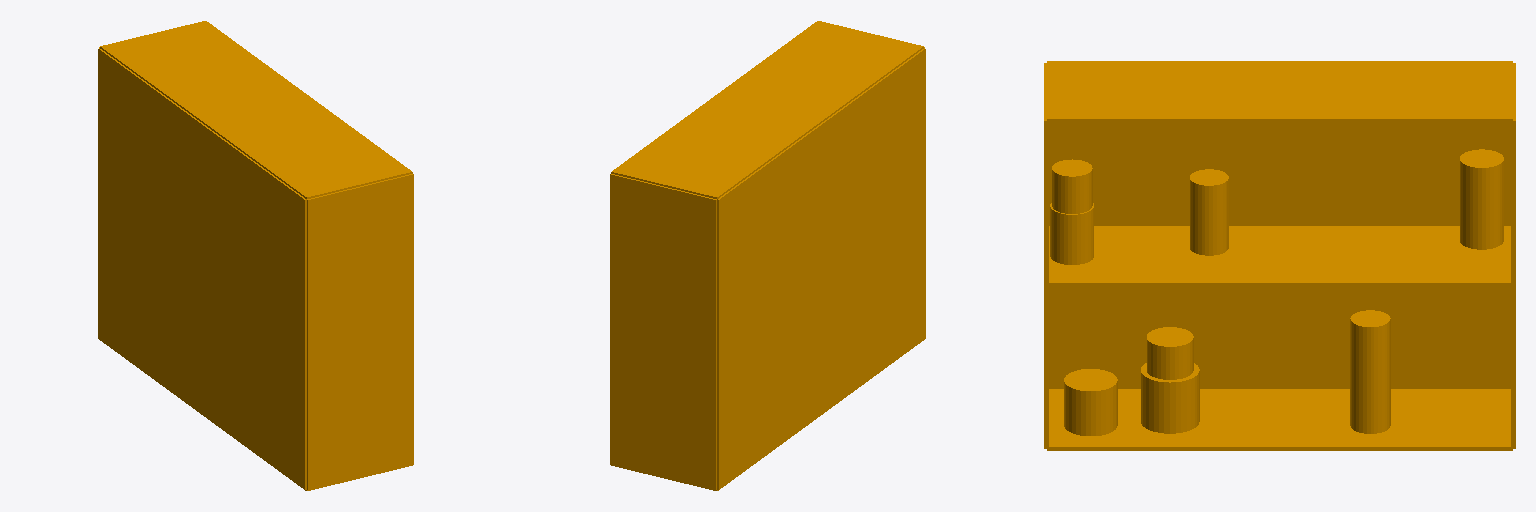
robot.urdf — syn_can_cabinet_507:
<?xml version="1.0" ?>
<robot name="syn_can_cabinet_507">
    <link concave="yes" name="base_link">
        <inertial>
            <origin rpy="0 0 0" xyz="0 0 0"/>
            <mass value="0.0"/>
            <inertia ixx="1e-08" ixy="0" ixz="0" iyy="1e-08" iyz="0" izz="1e-08"/>
        </inertial>
        <visual>
            <origin xyz="0 0 0" rpy="0 0 0" />
            <geometry>
                <mesh filename="syn_can_cabinet_507.obj" scale="1.000000 1.000000 1.000000"/>
            </geometry>         
        </visual>

        <collision concave="yes">
            <origin xyz="0 0 0" rpy="0 0 0"/>
            <geometry>
                <mesh filename="syn_can_cabinet_507.obj" scale="1.000000 1.000000 1.000000"/>
            </geometry>
        </collision>
    </link>
</robot>
    

--- Facts derived from the render (not from the file) ---
The picture shows the robot from 3 angles, left to right: view 1: azimuth 30°, elevation 25°; view 2: azimuth 150°, elevation 25°; view 3: azimuth 270°, elevation 25°; orthographic projection.
Model syn_can_cabinet_507 with 1 links and 0 joints (none), rooted at base_link, posed all joints at 0.
Links seen in each view (by area): view 1: base_link; view 2: base_link; view 3: base_link.
Boxes of the visible links, x1,y1,x2,y2 form: base_link: (98, 21, 413, 490); base_link: (610, 21, 925, 490); base_link: (1044, 61, 1515, 450).
Bounding box of the posed robot: 0.1457 × 0.4888 × 0.3797 m (x, y, z).
1 mesh visuals loaded from 1 distinct referenced files (1 OBJ).
